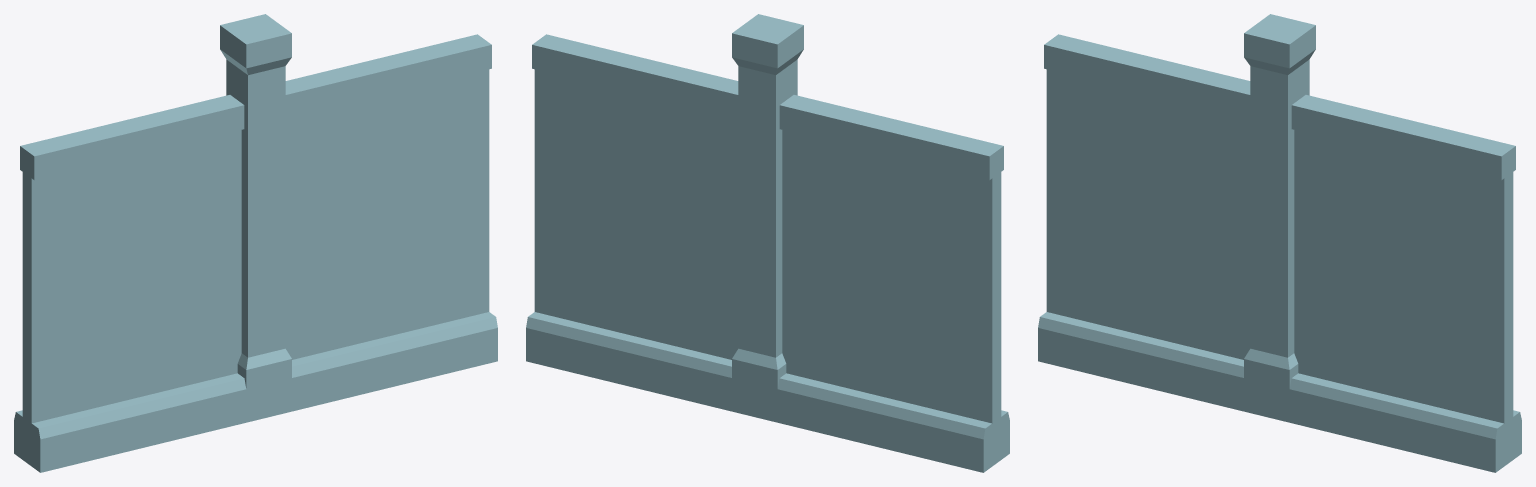
Rendered from stoneWallColumn.dae.
3 views of the same model, side by side, from view 1: azimuth 30°, elevation 25°; view 2: azimuth 150°, elevation 25°; view 3: azimuth 330°, elevation 25° (orthographic).
Visible parts, largest first — view 1: stoneWallColumn; view 2: stoneWallColumn; view 3: stoneWallColumn.
Boxes of the visible parts, left/top/right/bottom form: stoneWallColumn: left=14, top=14, right=497, bottom=472; stoneWallColumn: left=526, top=14, right=1009, bottom=472; stoneWallColumn: left=1038, top=14, right=1521, bottom=472.
Size of the model in its own units: 1 by 0.79 by 0.1.
